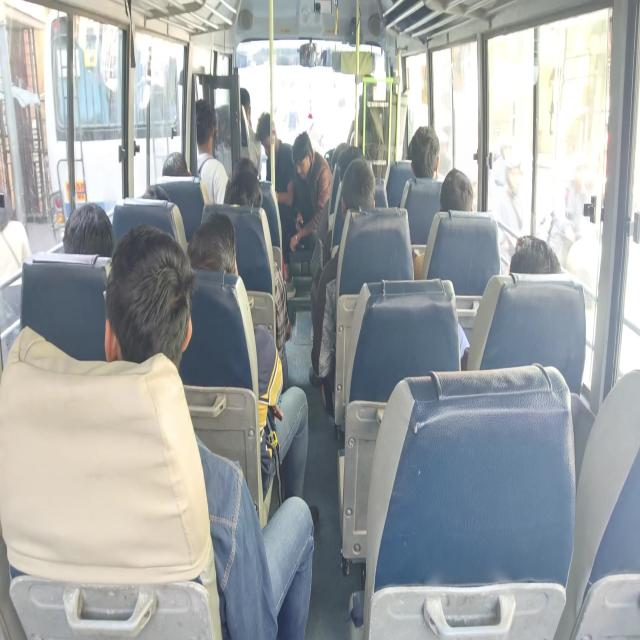person: (107, 225, 195, 370), (189, 206, 242, 284), (506, 228, 565, 298), (58, 195, 114, 265), (442, 170, 493, 225), (333, 153, 381, 209), (183, 90, 223, 152), (410, 124, 446, 192), (220, 165, 264, 215), (254, 106, 283, 158), (332, 137, 367, 179), (291, 124, 314, 184), (160, 143, 192, 184), (360, 59, 380, 120), (140, 177, 173, 204), (238, 82, 255, 128), (232, 154, 260, 180), (405, 137, 417, 165)
